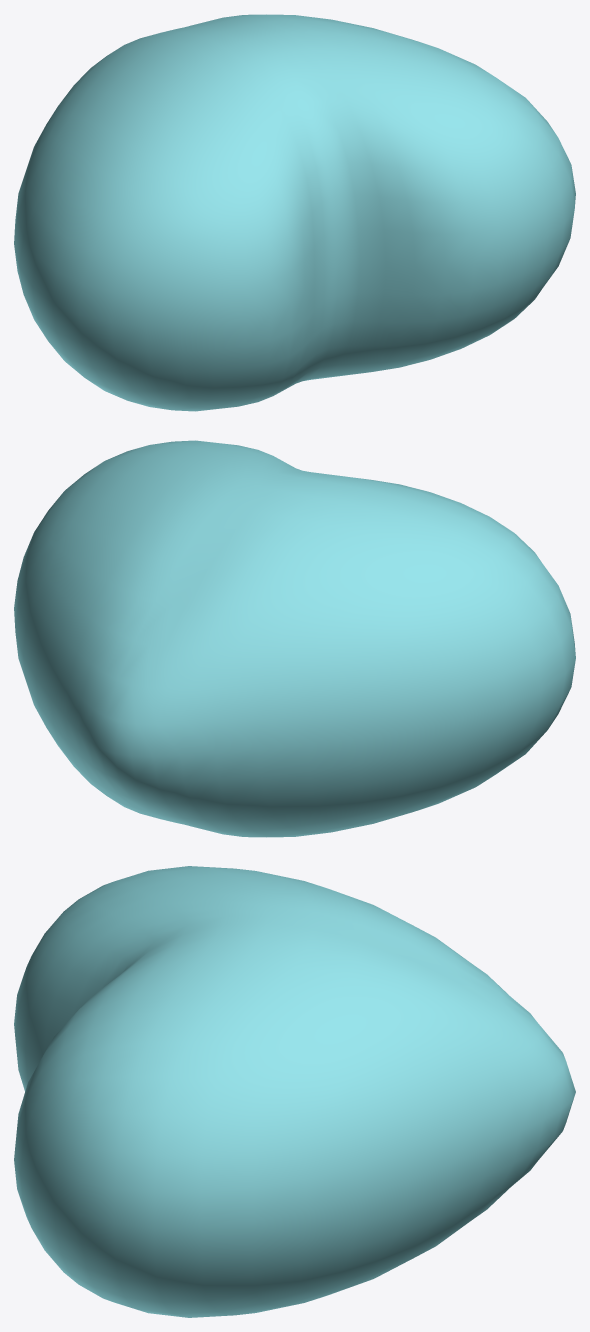
File: asset.glb
The picture shows the model from 3 angles, top to bottom: view 1: azimuth 30°, elevation 25°; view 2: azimuth 150°, elevation 25°; view 3: azimuth 270°, elevation 25°; orthographic projection. The views are drawn at different scales.
Visible parts, largest first — view 1: Cubo; view 2: Cubo; view 3: Cubo.
Boxes of the visible parts, bbox=[...] form: Cubo: bbox=[14, 14, 575, 411]; Cubo: bbox=[14, 440, 575, 837]; Cubo: bbox=[14, 866, 575, 1317].
Bounding box in the file's own units: 1.63 × 0.9966 × 1.43.
